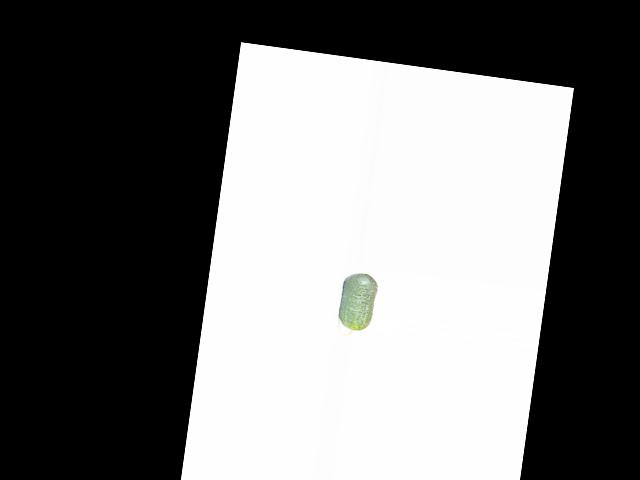cucumber: (335, 271, 379, 339)
